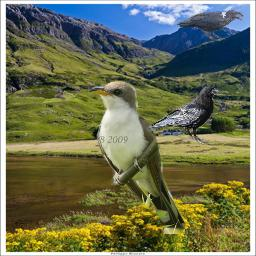Crow: (147, 85, 223, 145), (176, 9, 244, 40)
Cuckoo: (88, 79, 185, 234)
